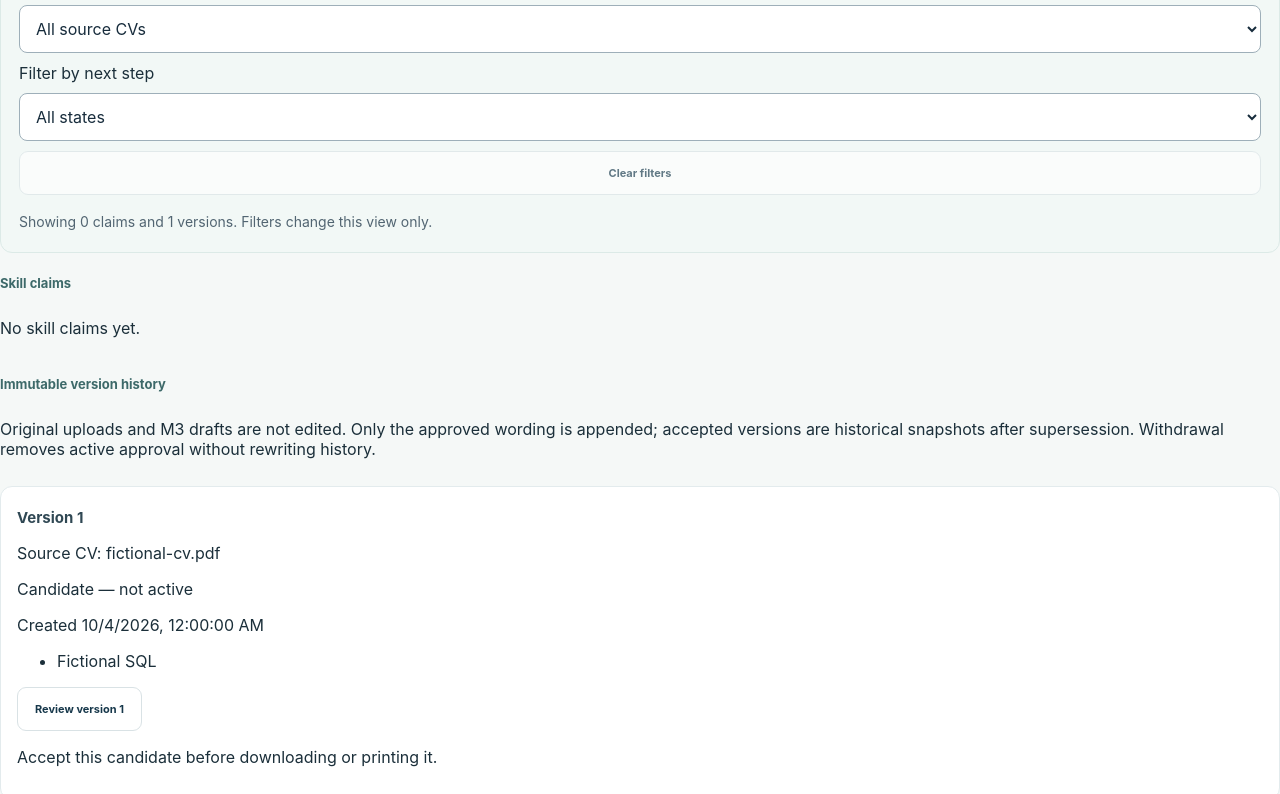
Test: owner credential forms › refuses mismatched snapshot IDs and leaves no candidate acceptance action
This screenshot has width=1280, height=794.
(page scrolled)
Click the button "Review version 1" at (79, 709), box [17, 687, 142, 731]
(page scrolled)
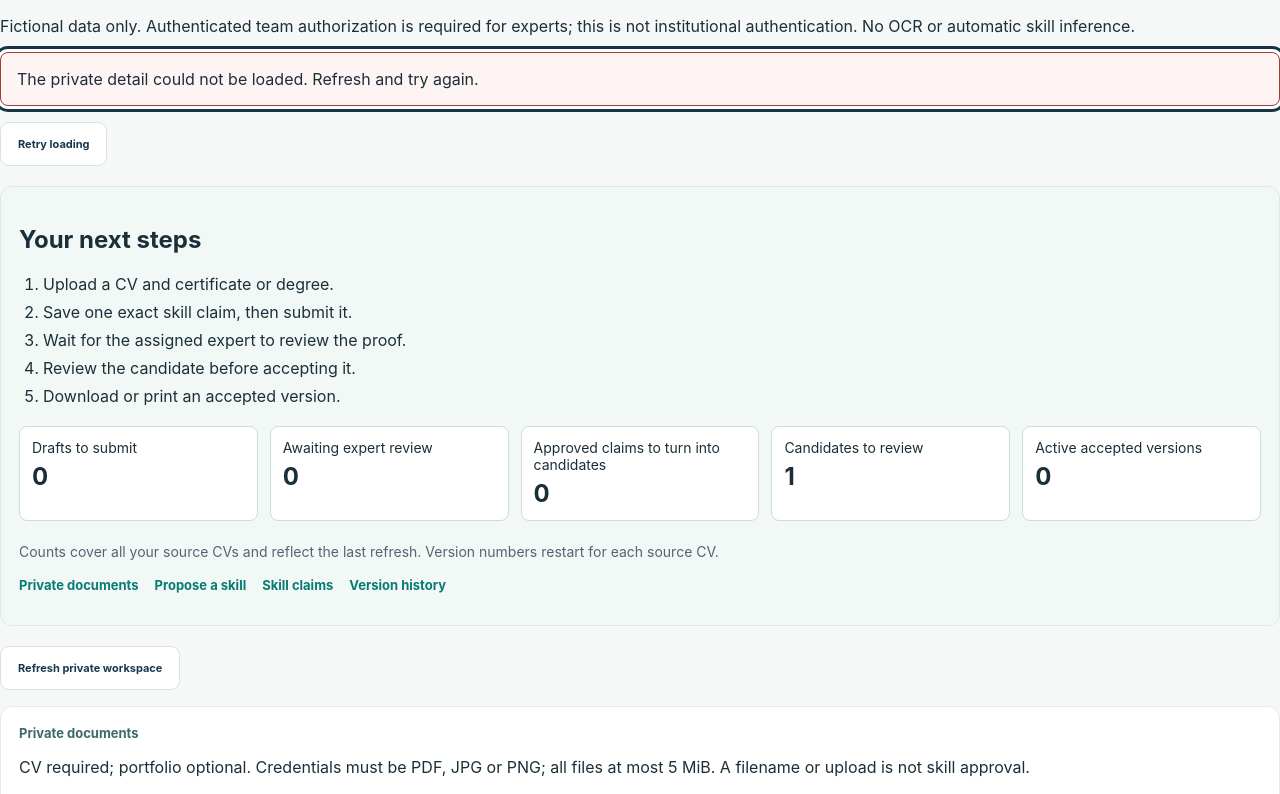
Check: the message shows "private detail could not be loaded", box [17, 69, 479, 89]
